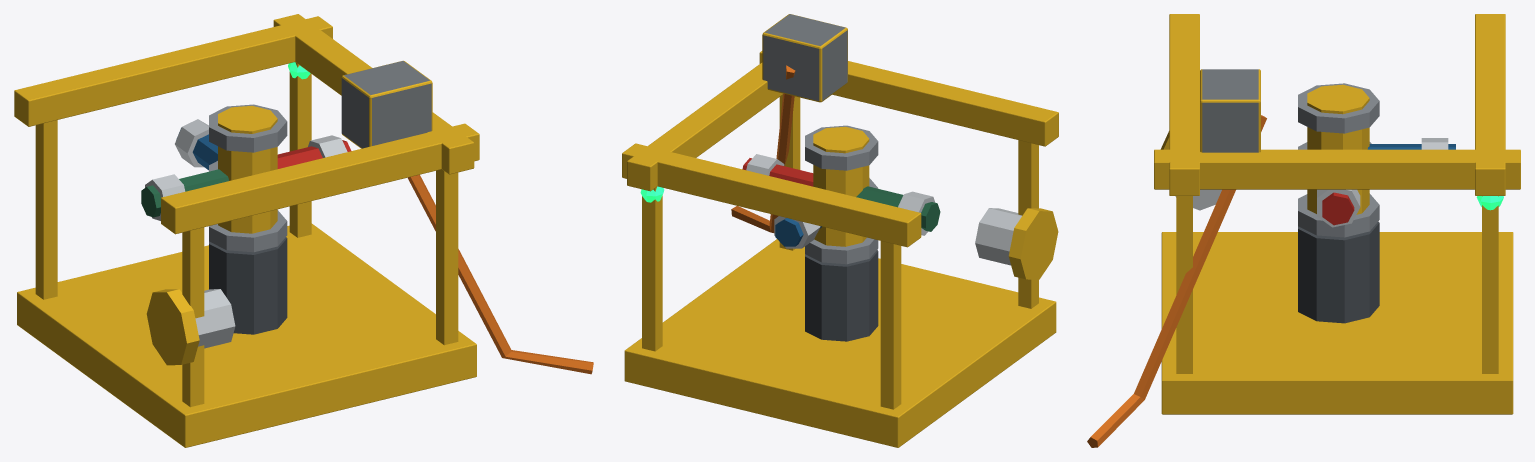
The model's file is off_subsea_tree.glb.
3 renders of one model, left to right at view 1: azimuth 30°, elevation 25°; view 2: azimuth 150°, elevation 25°; view 3: azimuth 270°, elevation 25°, orthographic. The views are drawn at different scales.
Parts seen in each view (by area): view 1: off_subsea_tree; view 2: off_subsea_tree; view 3: off_subsea_tree.
Boxes of the visible parts, bbox=[...] form: off_subsea_tree: bbox=[14, 14, 593, 447]; off_subsea_tree: bbox=[622, 14, 1058, 447]; off_subsea_tree: bbox=[1087, 14, 1520, 447].
Bounding box in the file's own units: 6.05 × 4.35 × 5.68.
